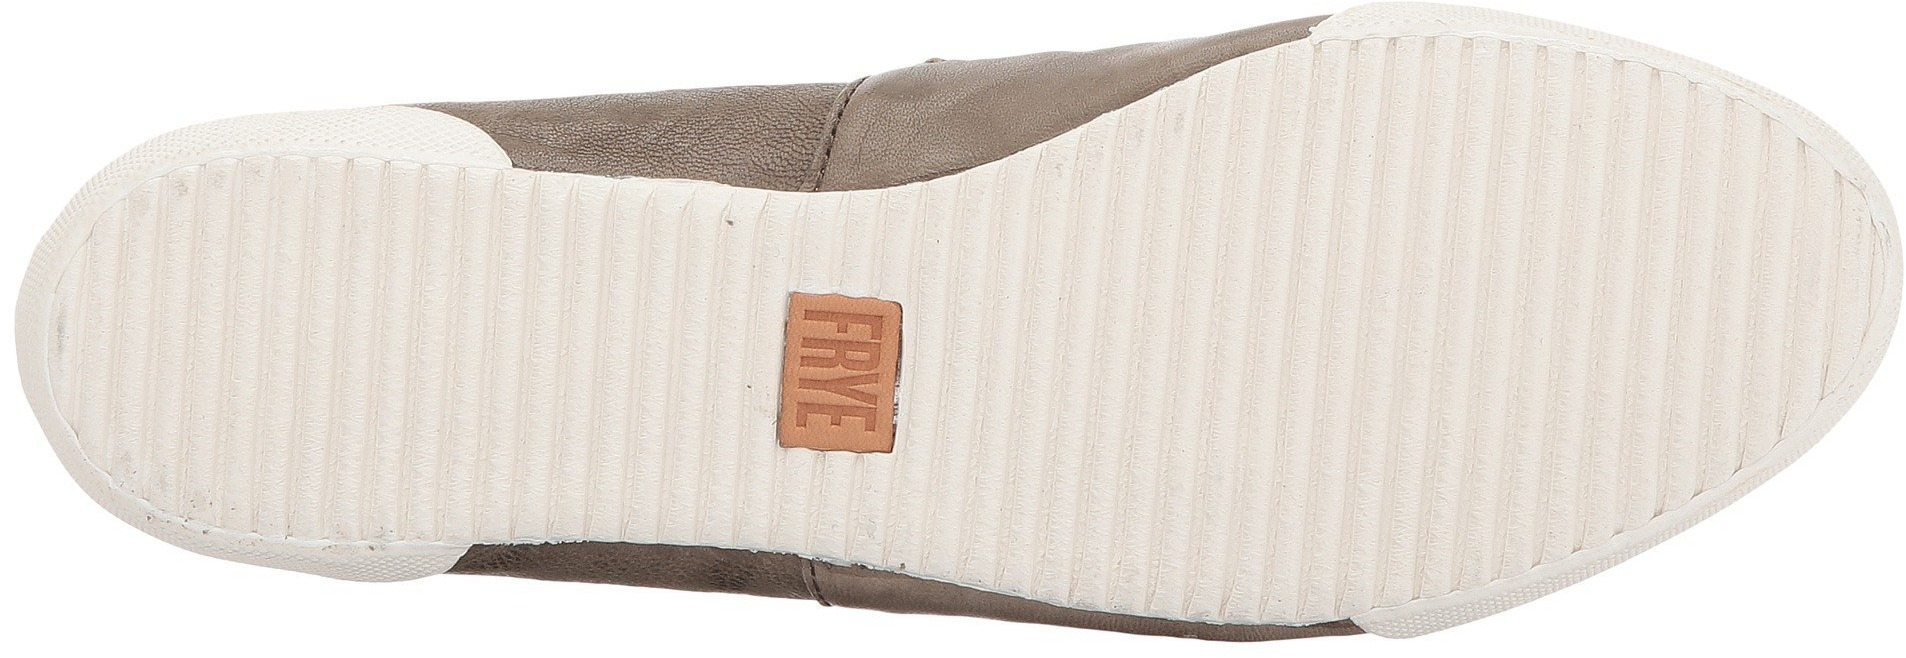quad: (1540, 105, 1823, 370), (1271, 64, 1533, 319), (1220, 348, 1494, 580), (960, 182, 1208, 428), (333, 171, 580, 415), (96, 229, 317, 433), (586, 227, 766, 409), (1047, 438, 1217, 598), (1504, 377, 1634, 512)
